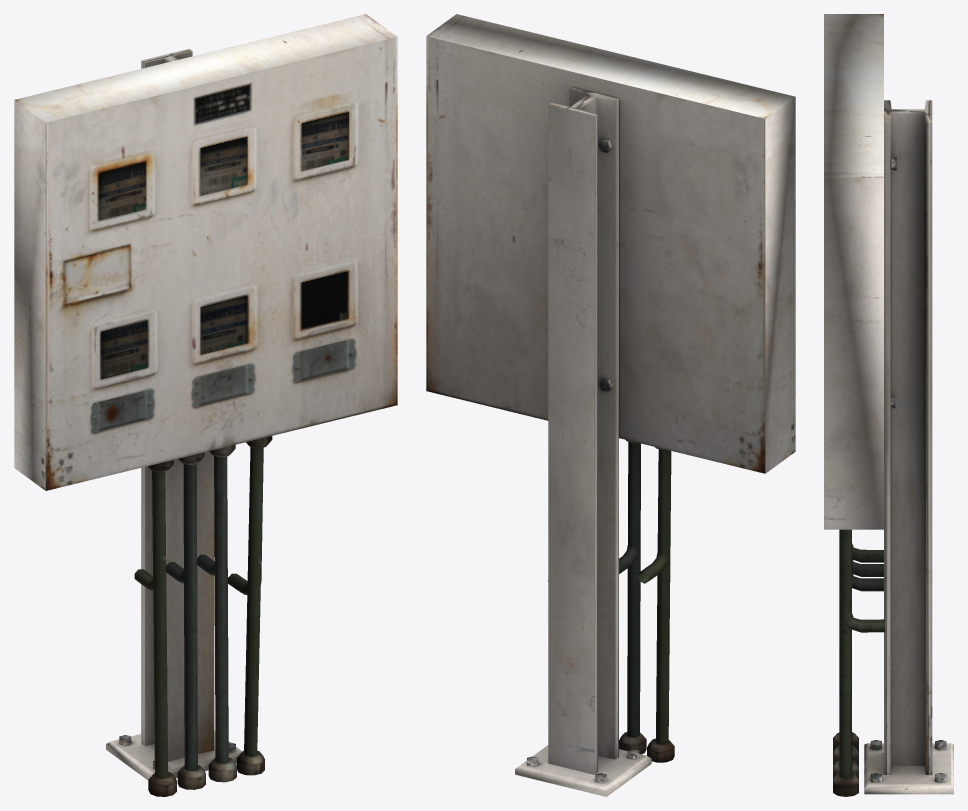
Rendered from fuse_box_0006.fbx.
The picture shows the model from 3 angles, left to right: view 1: azimuth 30°, elevation 25°; view 2: azimuth 150°, elevation 25°; view 3: azimuth 270°, elevation 25°; orthographic projection. The views are drawn at different scales.
Visible parts, largest first — view 1: fuse_box_0006b, fuse_box_0006a, fuse_box_0006c; view 2: fuse_box_0006a, fuse_box_0006b, fuse_box_0006c; view 3: fuse_box_0006a, fuse_box_0006b, fuse_box_0006c.
Part boxes in pixels (<box>): fuse_box_0006b: <box>14,14,397,796</box>; fuse_box_0006a: <box>106,49,242,780</box>; fuse_box_0006c: <box>134,447,263,594</box>; fuse_box_0006a: <box>426,36,765,796</box>; fuse_box_0006b: <box>426,14,795,762</box>; fuse_box_0006c: <box>548,442,671,583</box>; fuse_box_0006a: <box>864,100,953,794</box>; fuse_box_0006b: <box>824,14,883,796</box>; fuse_box_0006c: <box>839,529,884,632</box>.
Size of the model in its own units: 70 by 135 by 23.44.
